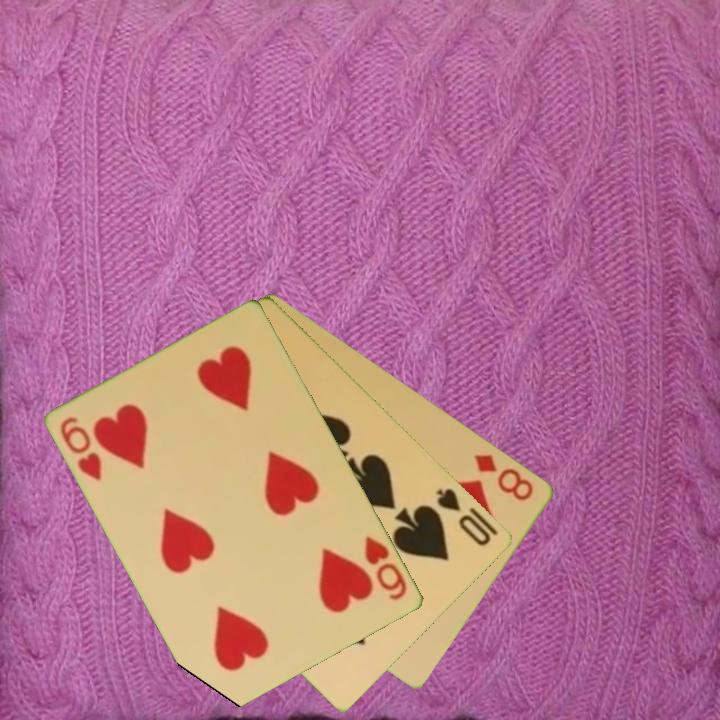10s: (433, 484, 495, 549)
6h: (361, 532, 411, 604), (57, 413, 106, 484)
8d: (471, 450, 537, 504)
